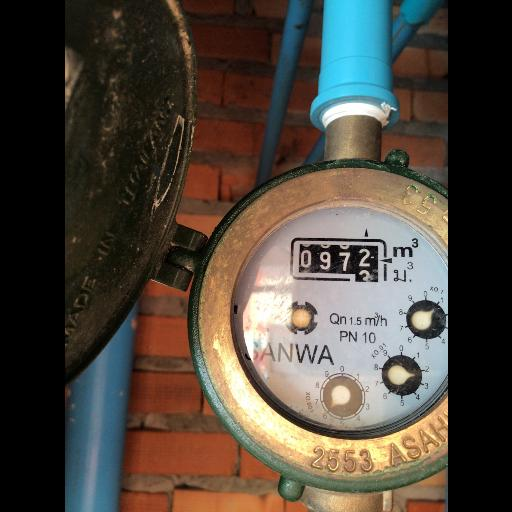0: (297, 243, 315, 273)
2: (356, 246, 376, 283)
7: (335, 245, 353, 274)
9: (317, 245, 335, 274)
border_water_meter_number: (290, 236, 393, 283)
